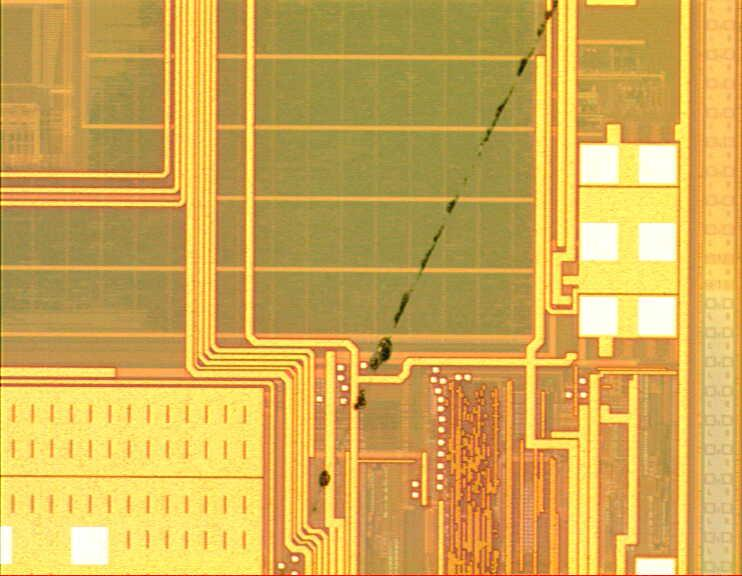SCRATCH: (289, 1, 567, 545)
